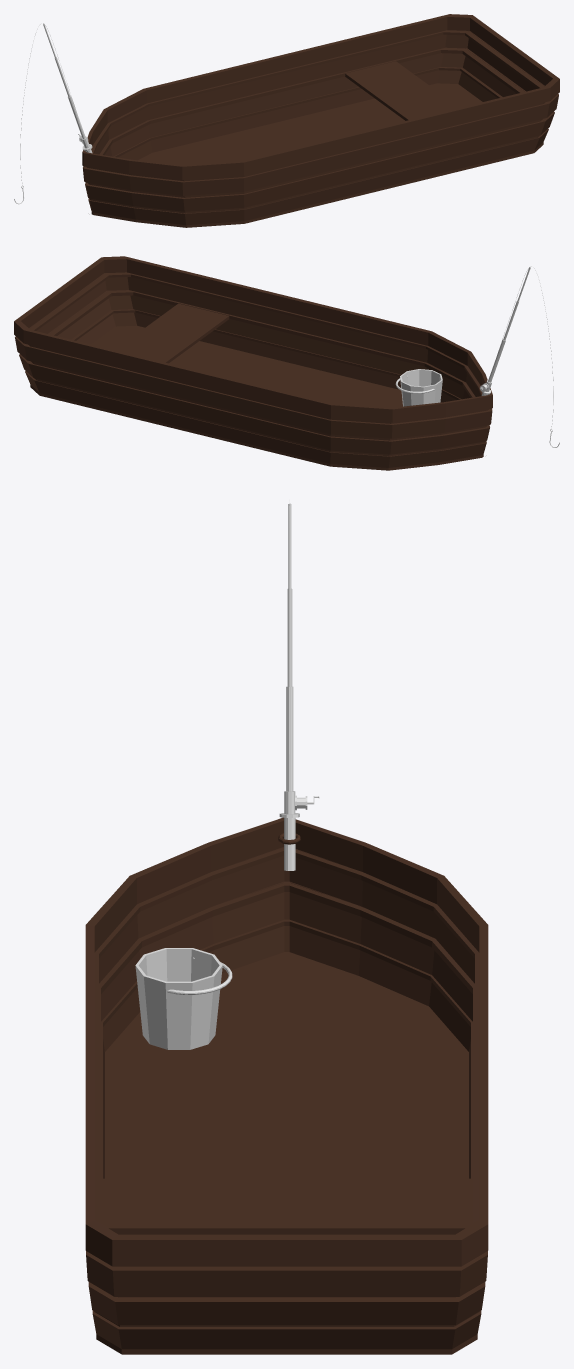
File: bateau.fbx
3 views of the same model, one above another, from view 1: azimuth 30°, elevation 25°; view 2: azimuth 150°, elevation 25°; view 3: azimuth 270°, elevation 25° (orthographic). The views are drawn at different scales.
Visible parts, largest first — view 1: Cube, Cube.001, Cylinder.002; view 2: Cube, Cube.001, Cylinder, Cylinder.002; view 3: Cube, Cube.001, Cylinder, Cylinder.002.
Boxes of the visible parts, x1,y1,x2,y2 form: Cube: (82,14,559,227); Cube.001: (345,61,459,120); Cylinder.002: (43,23,92,153); Cube: (14,256,492,470); Cube.001: (115,303,229,363); Cylinder: (400,369,442,406); Cylinder.002: (481,267,530,395); Cube: (85,817,488,1354); Cube.001: (101,1178,472,1234); Cylinder: (135,948,222,1049); Cylinder.002: (279,503,299,870).
Bounding box in the file's own units: 3190 × 1233 × 1110.
